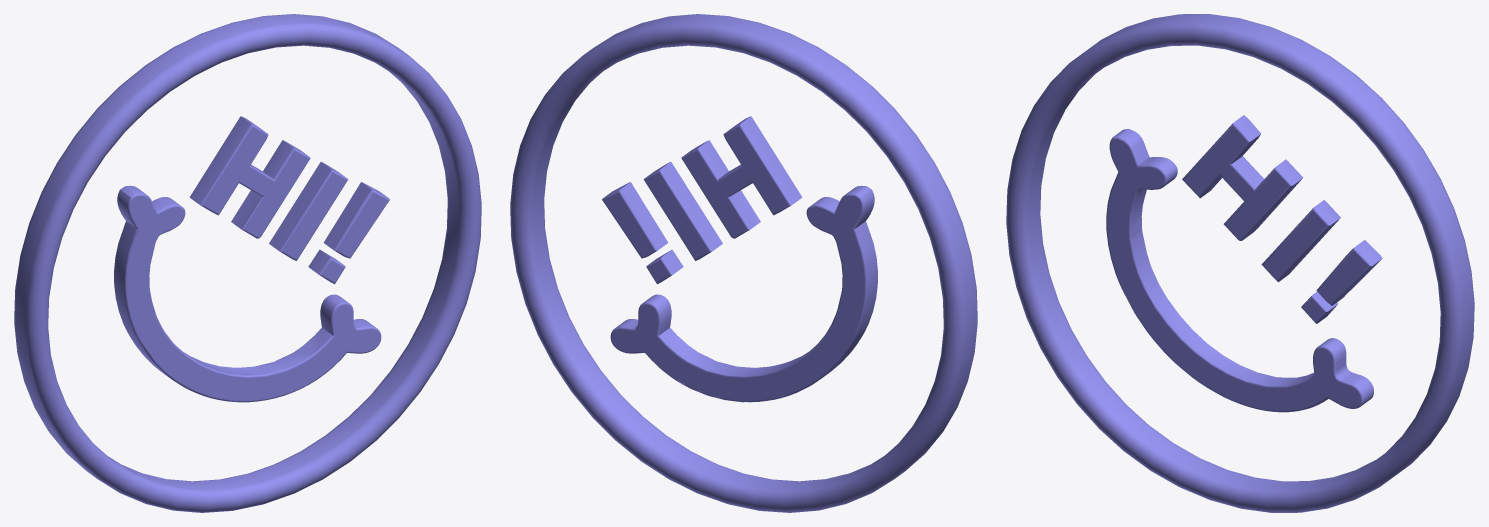
The model's file is smile+anim.glb.
3 renders of one model, left to right at view 1: azimuth 30°, elevation 25°; view 2: azimuth 150°, elevation 25°; view 3: azimuth 330°, elevation 25°, orthographic.
Parts seen in each view (by area): view 1: Curve.005; view 2: Curve.005; view 3: Curve.005.
Boxes of the visible parts, left/top/right/bottom form: Curve.005: left=14, top=14, right=481, bottom=512; Curve.005: left=510, top=14, right=977, bottom=512; Curve.005: left=1006, top=14, right=1474, bottom=512.
Bounding box in the file's own units: 0.2589 × 0.2595 × 0.0212.
